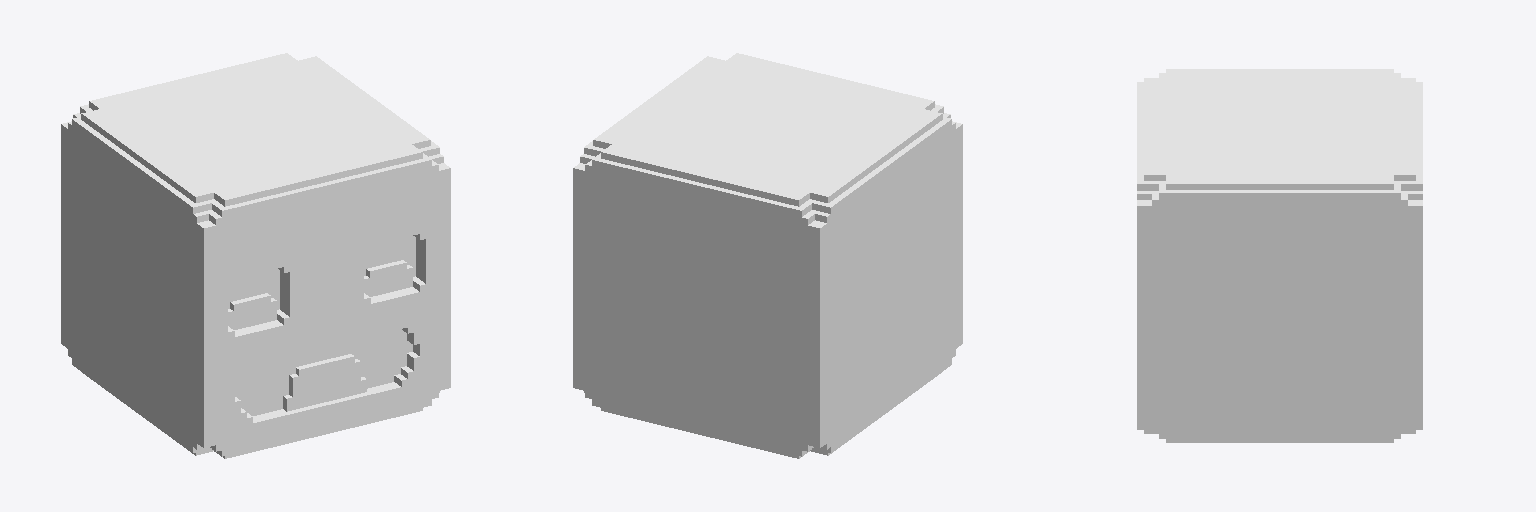
Rendered from pacman.obj.
The picture shows the model from 3 angles: view 1: azimuth 30°, elevation 25°; view 2: azimuth 150°, elevation 25°; view 3: azimuth 270°, elevation 25°; orthographic projection.
Visible parts, largest first — view 1: object 1; view 2: object 1; view 3: object 1.
Part boxes in pixels (x1,y1,x2,y2): object 1: (61, 53, 450, 458); object 1: (573, 53, 962, 458); object 1: (1137, 69, 1422, 442).
Bounding box in the file's own units: 4 × 4 × 4.